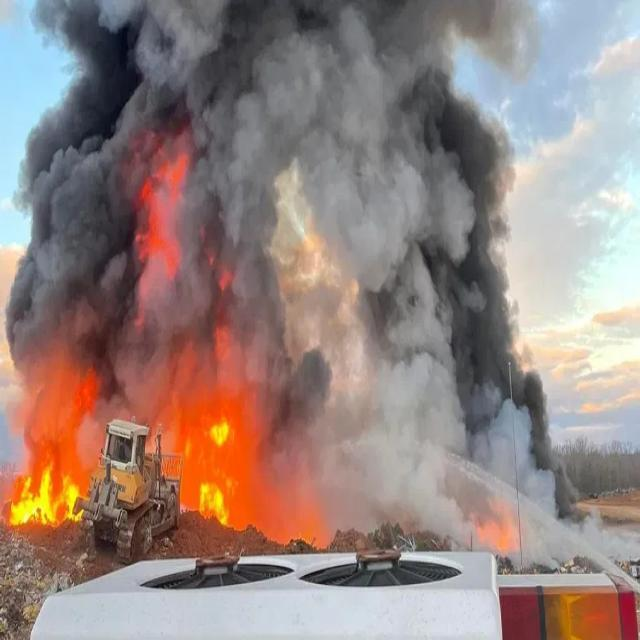Fire: (0, 368, 293, 534)
Smoke: (1, 1, 559, 417)
